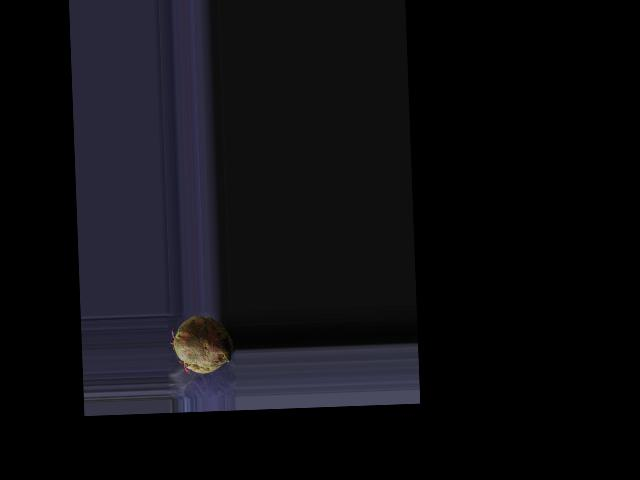beet: (170, 315, 234, 374)
